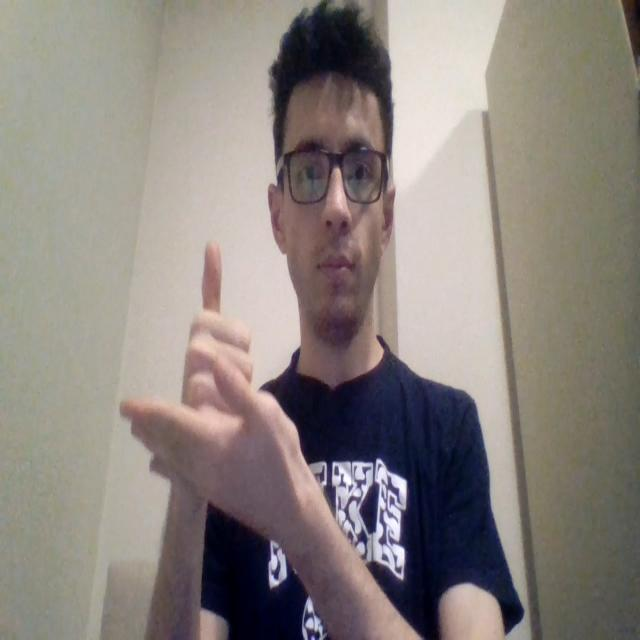help: (123, 242, 300, 523)
